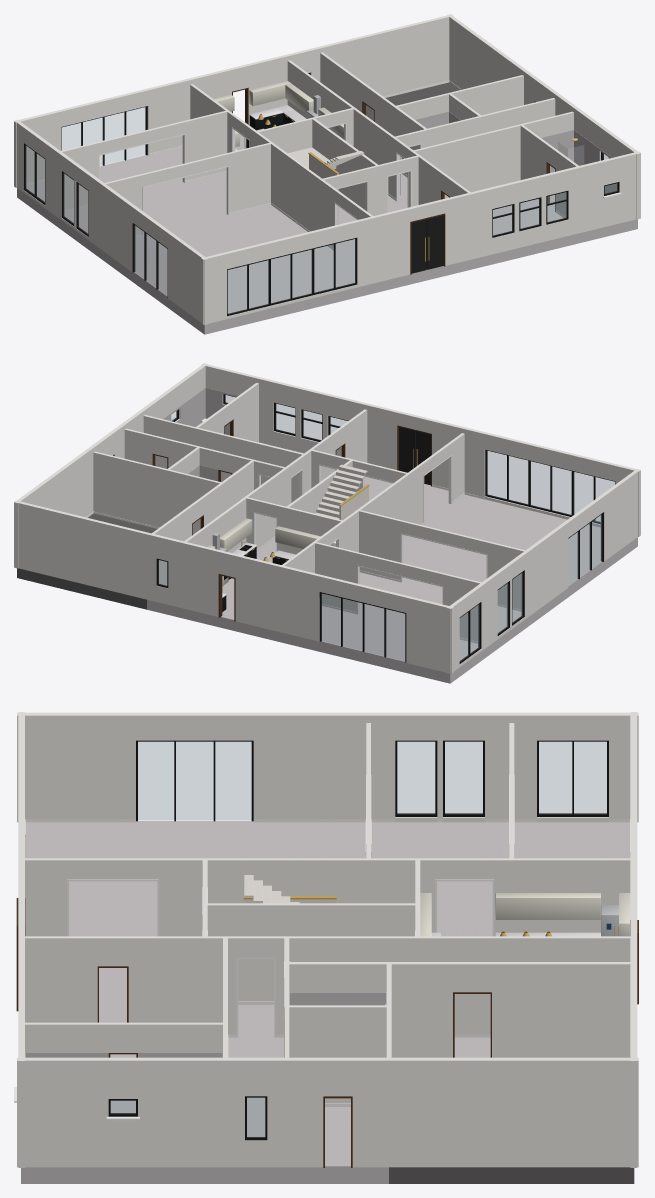
File: int_est_S4_0.glb
3 views of the same model, one above another, from view 1: azimuth 30°, elevation 25°; view 2: azimuth 150°, elevation 25°; view 3: azimuth 270°, elevation 25° (orthographic). The views are drawn at different scales.
Parts seen in each view (by area): view 1: ROOM, WALL_0, WALL_9, WALL_4, WALL_1, WALL_12, WALL_2, WALL_10, WALL_3, WALL_8, WALL_14, WALL_13 (+6 smaller); view 2: ROOM, WALL_9, WALL_0, WALL_4, WALL_1, WALL_15, WALL_12, WALL_2, WALL_3, WALL_8, WALL_10, WALL_13 (+6 smaller); view 3: WALL_12, WALL_4, ROOM, WALL_2, WALL_1, WALL_14, WALL_7, WALL_11, WALL_16, WALL_9, WALL_0, WALL_8 (+2 smaller).
Part boxes in pixels (bbox=[...]): ROOM: bbox=[17, 80, 637, 334]; WALL_0: bbox=[201, 151, 640, 324]; WALL_9: bbox=[14, 14, 453, 187]; WALL_4: bbox=[14, 120, 207, 324]; WALL_1: bbox=[147, 84, 372, 250]; WALL_12: bbox=[447, 14, 640, 219]; WALL_2: bbox=[287, 60, 470, 207]; WALL_10: bbox=[412, 111, 573, 198]; WALL_3: bbox=[105, 143, 270, 235]; WALL_8: bbox=[61, 110, 227, 209]; WALL_14: bbox=[320, 52, 426, 175]; WALL_13: bbox=[394, 98, 555, 197]; ROOM: bbox=[17, 387, 637, 683]; WALL_9: bbox=[14, 500, 453, 673]; WALL_0: bbox=[201, 363, 640, 536]; WALL_4: bbox=[447, 469, 640, 673]; WALL_1: bbox=[235, 433, 464, 641]; WALL_15: bbox=[93, 451, 222, 534]; WALL_12: bbox=[14, 363, 207, 568]; WALL_2: bbox=[184, 409, 367, 552]; WALL_3: bbox=[359, 510, 524, 609]; WALL_8: bbox=[315, 542, 481, 641]; WALL_10: bbox=[143, 415, 303, 502]; WALL_13: bbox=[124, 428, 284, 489]; WALL_12: bbox=[17, 1057, 638, 1167]; WALL_4: bbox=[17, 712, 638, 822]; ROOM: bbox=[21, 819, 634, 1183]; WALL_2: bbox=[25, 936, 630, 1037]; WALL_1: bbox=[25, 858, 630, 936]; WALL_14: bbox=[289, 962, 630, 1057]; WALL_7: bbox=[205, 903, 417, 1001]; WALL_11: bbox=[25, 1022, 225, 1057]; WALL_16: bbox=[287, 1005, 386, 1103]; WALL_9: bbox=[630, 712, 638, 1167]; WALL_0: bbox=[14, 712, 25, 1167]; WALL_8: bbox=[509, 723, 514, 858].
Bounding box in the file's own units: 25.41 × 4.2 × 19.16.
Materials: 16 (1 with a texture image).
